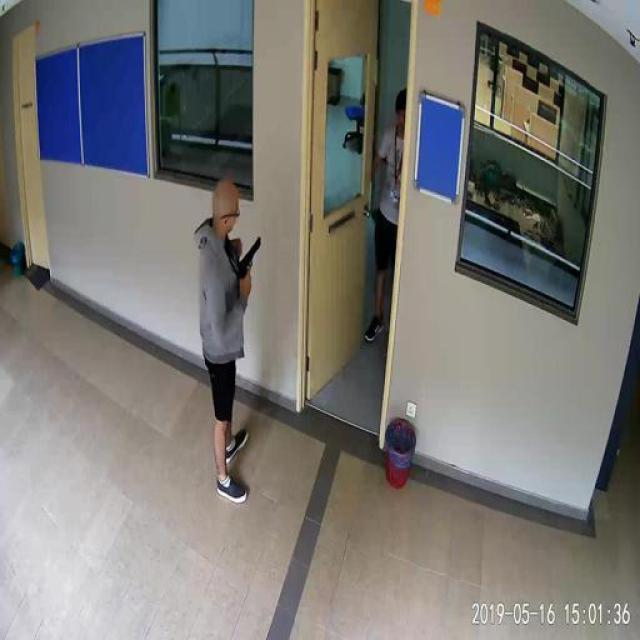weapon: (232, 234, 263, 299)
